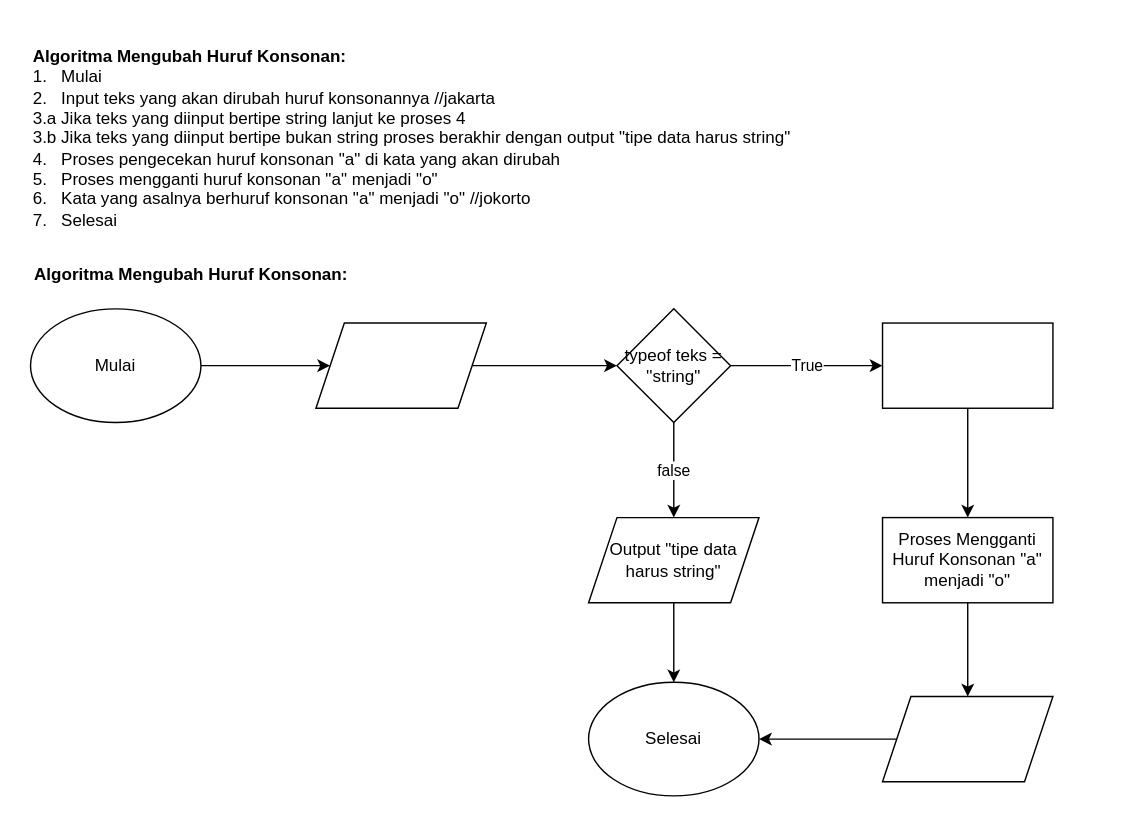
Some shapes in this 1133 by 821 pixel diagram are drawn without their labels. Here are the shapes that lost their labels. From the top down, the centre of each, then its label:
the point at 400,365: Input Teks
the point at 967,365: Proses Pengecekan Huruf Konsonan "a"
the point at 967,738: Output Teks yang sudah dirubah hurufnya dari "a" menjadi "o"
